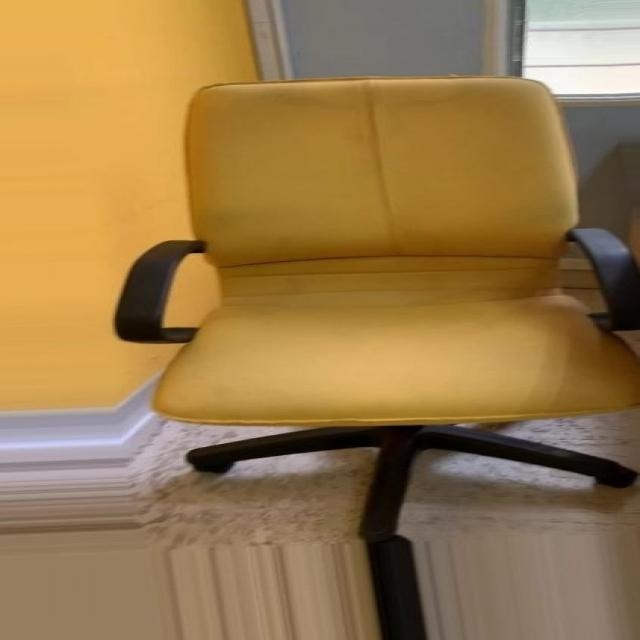Chair: (106, 73, 640, 551)
